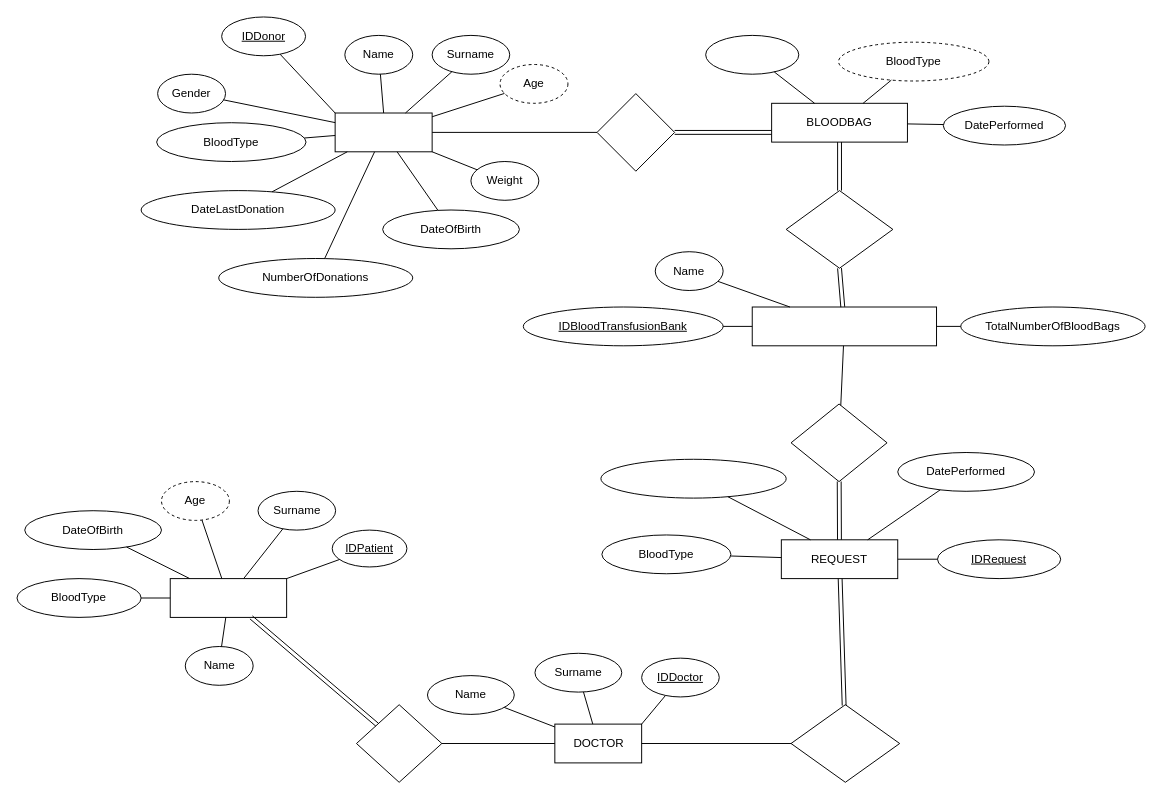
Some shapes in this 1162 by 799 pixel diagram are drawn without their labels. Each missing label, with the centre of its shape:
BLOOD TRANSFUSION BANK: (844,326)
CARES: (399,743)
COMPLETED: (845,743)
DONATES: (635,132)
DONOR: (383,132)
IDBloodBags: (752,54)
KEEPS: (839,229)
PATIENT: (228,597)
QuantityOfBagsRequired: (693,478)
STORES: (838,442)
